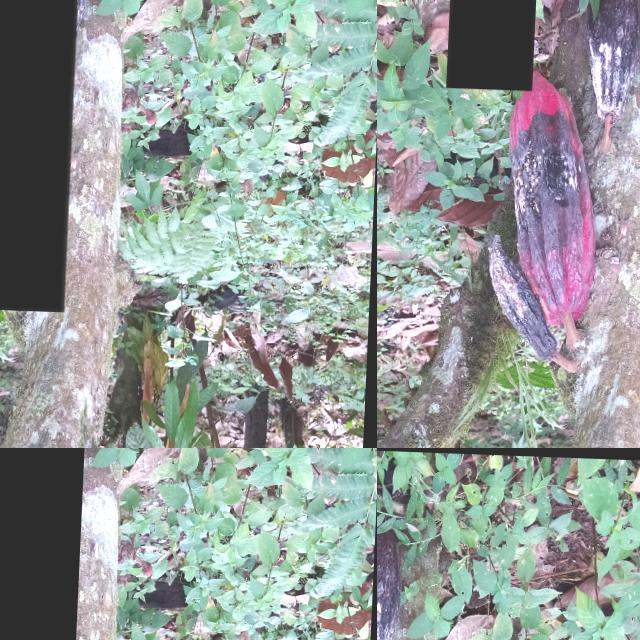Monilia: (0, 448, 92, 640), (448, 0, 540, 89), (568, 32, 614, 184), (377, 529, 399, 640)
Sana: (378, 0, 469, 51), (133, 544, 154, 615), (141, 620, 170, 640)
